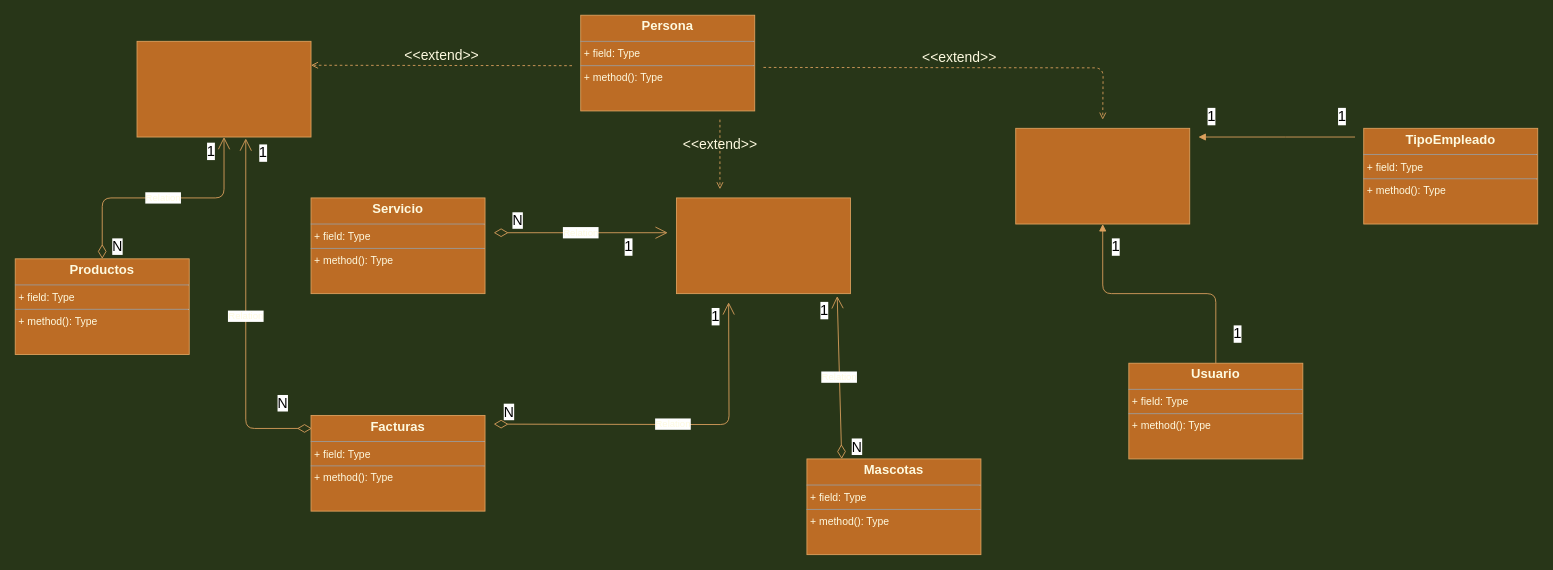
The diagram is 1553 pixels wide and 570 high, and some of its shapes have lost their labels. The box of each missing label's shape, as (x1, y1, x2, y2) in pixels:
Cliente + field: Type + method(): Type: (676, 197, 850, 294)
Empleado + field: Type + method(): Type: (1015, 127, 1190, 224)
Proveedor + field: Type + method(): Type: (136, 40, 311, 137)
